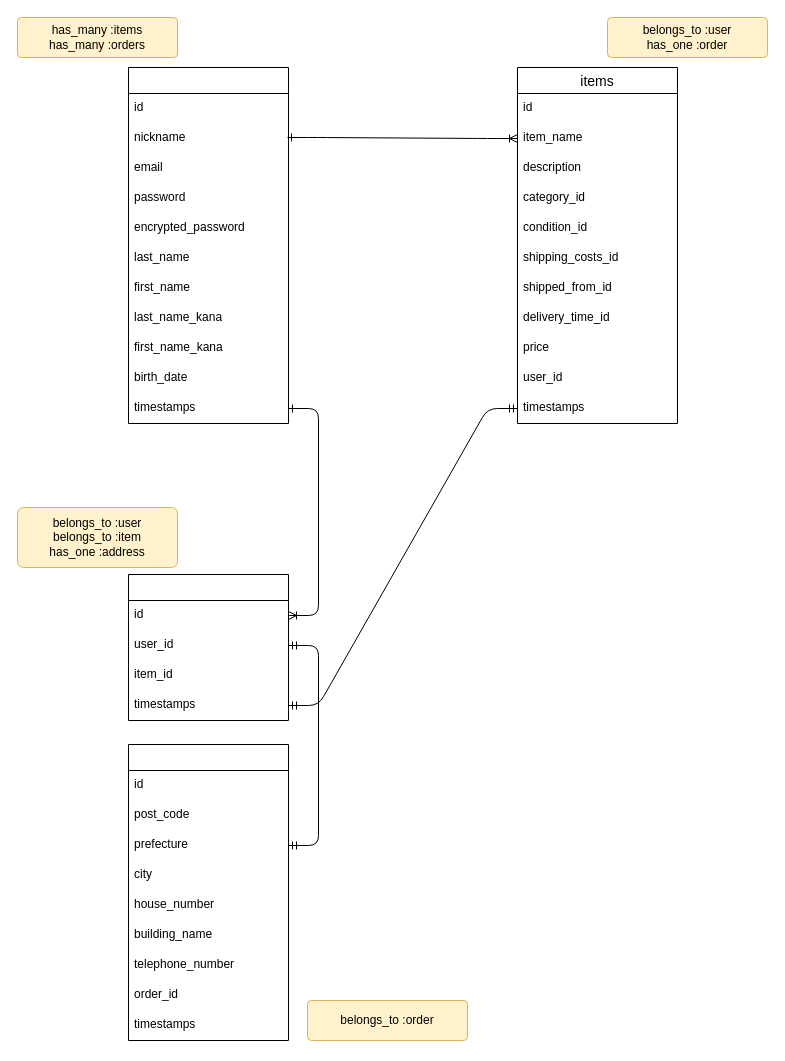
Some shapes in this 785 by 1061 pixel diagram are drawn without their labels. The shapes that lost their labels are listed below. From the top down, each one's box as (x1, y1, x2, y2) in pixels, then its label:
(128, 66, 288, 424): users
(128, 574, 288, 720): orders
(128, 744, 288, 1040): addresses
